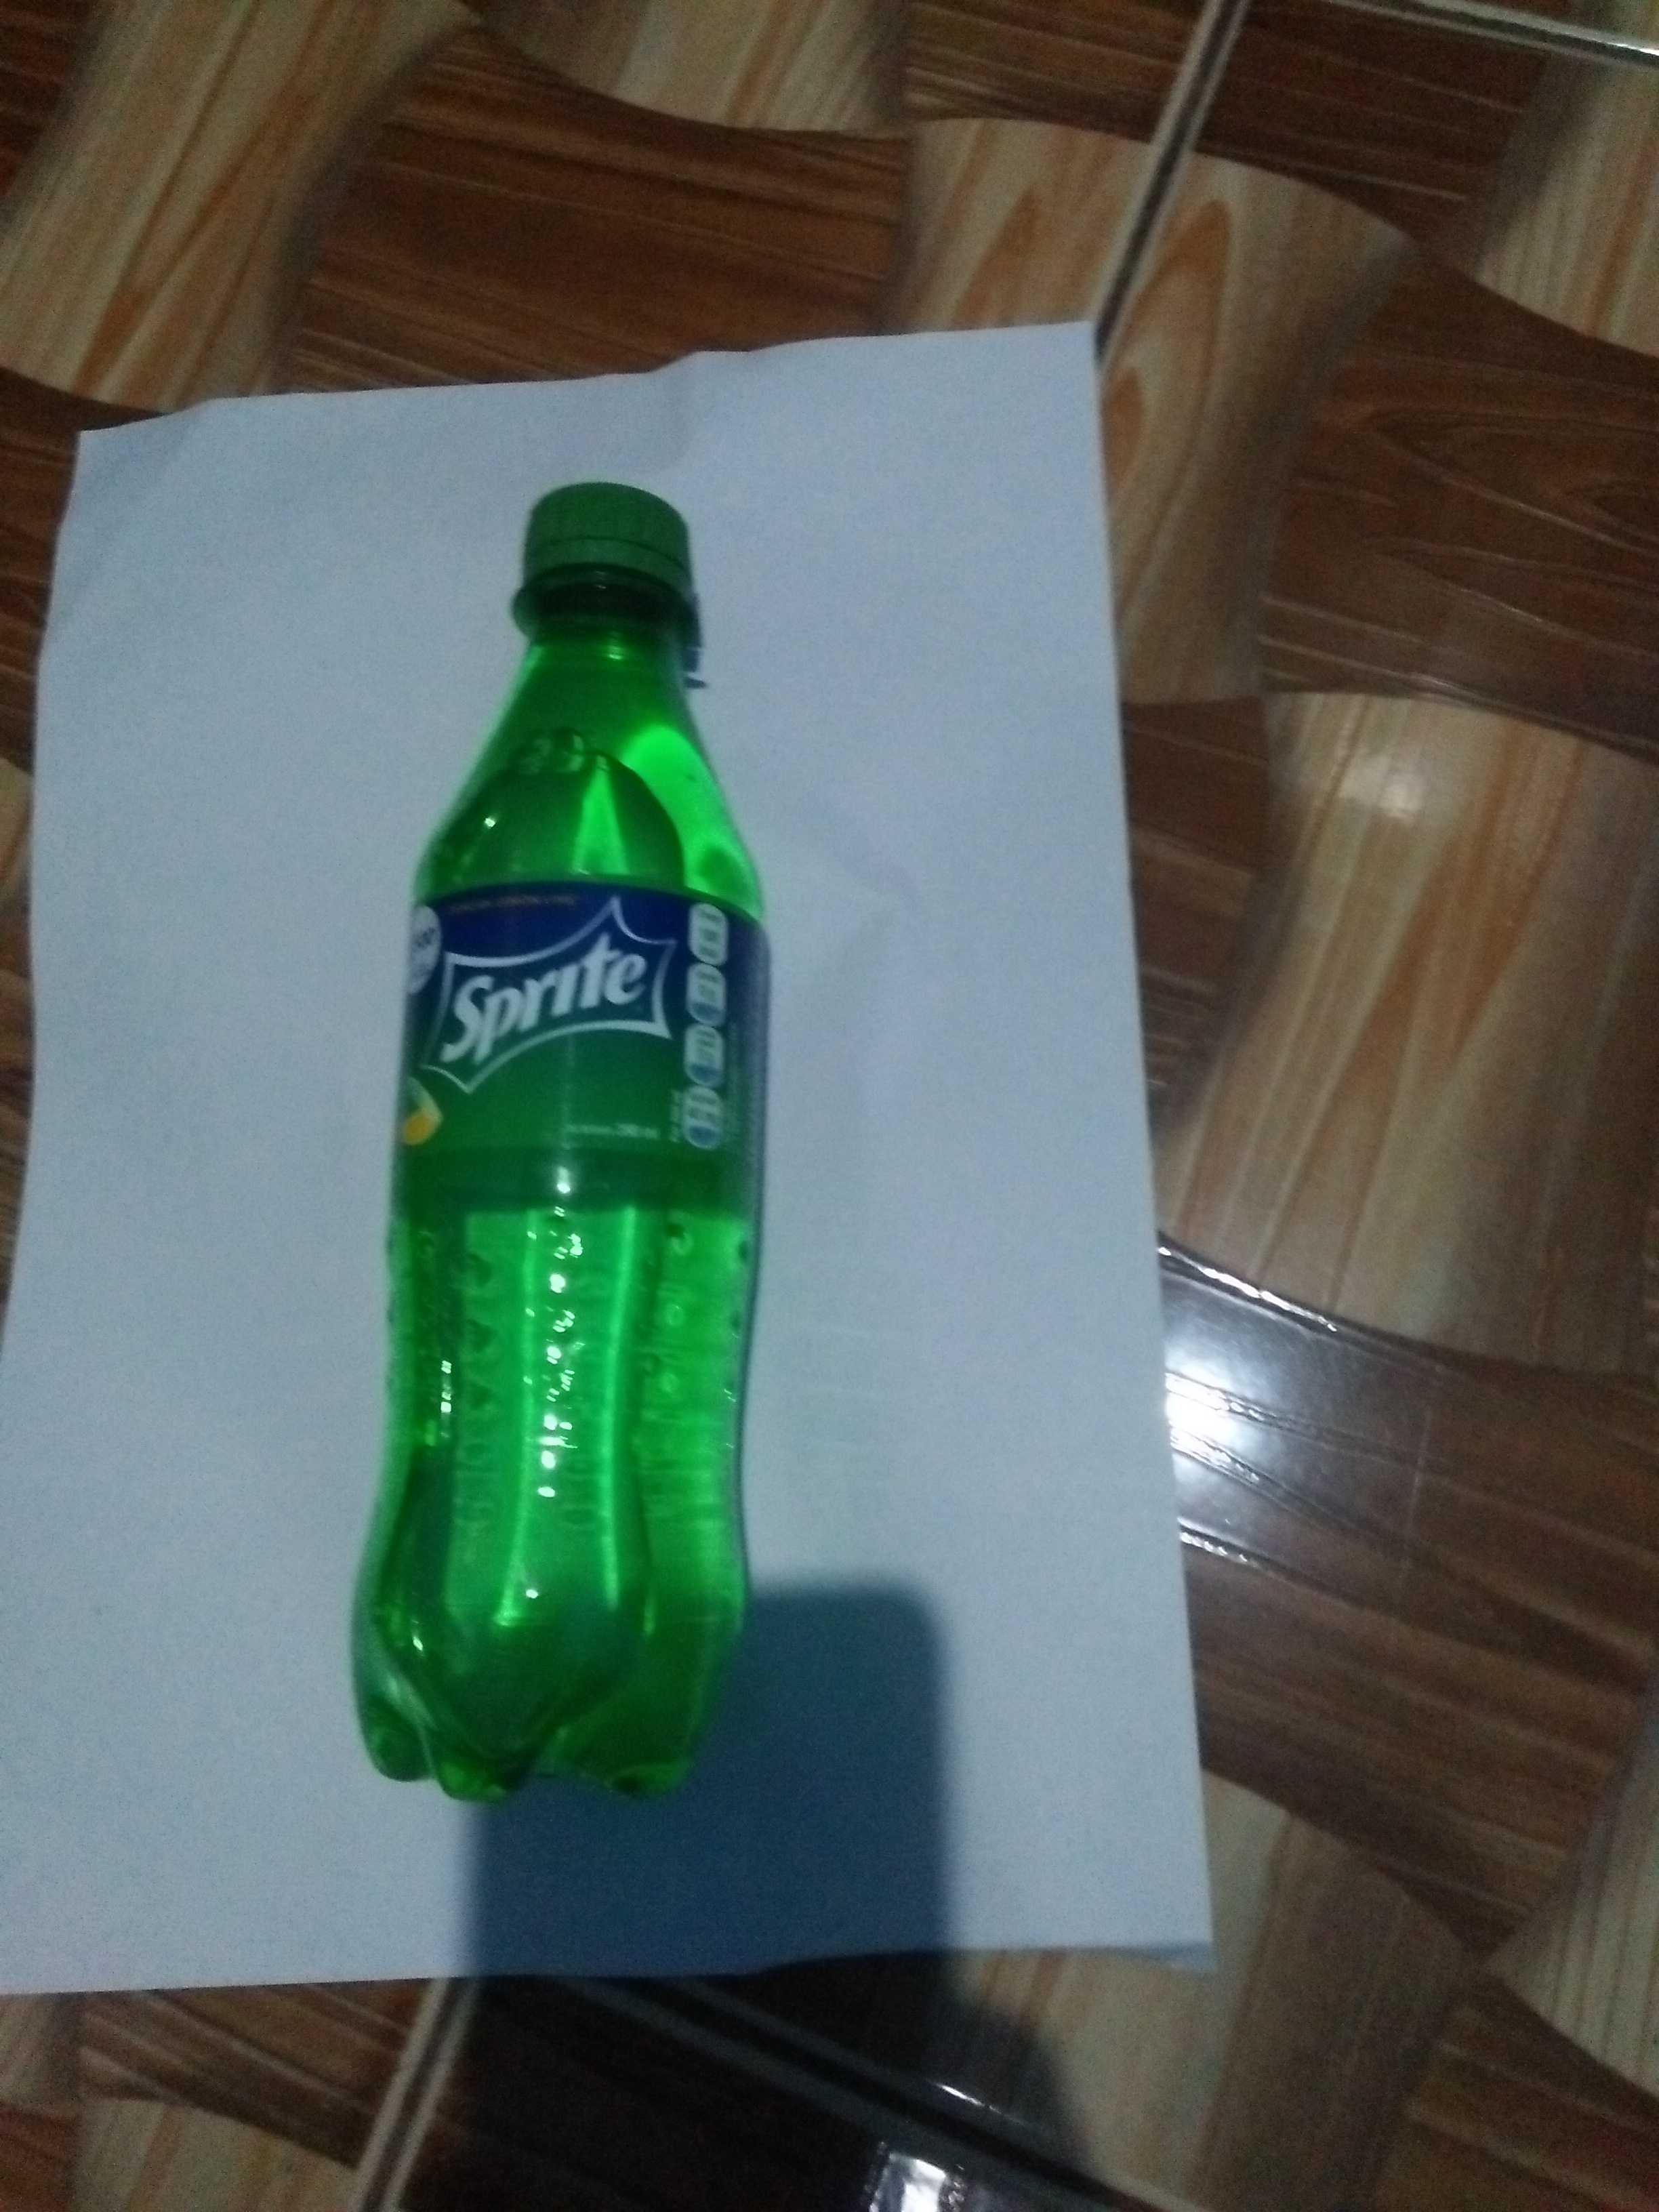Sprite: (347, 479, 798, 1832)
